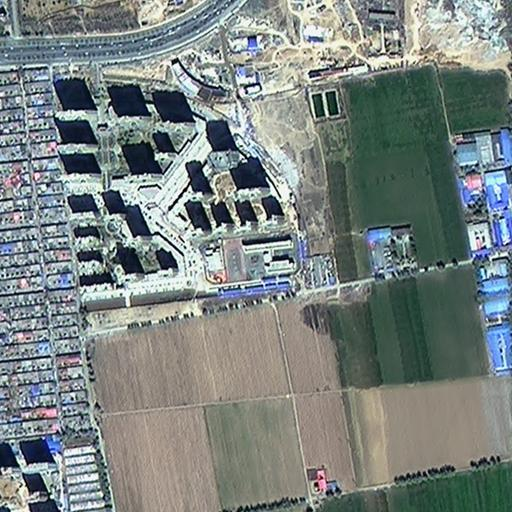school: (200, 234, 297, 285)
